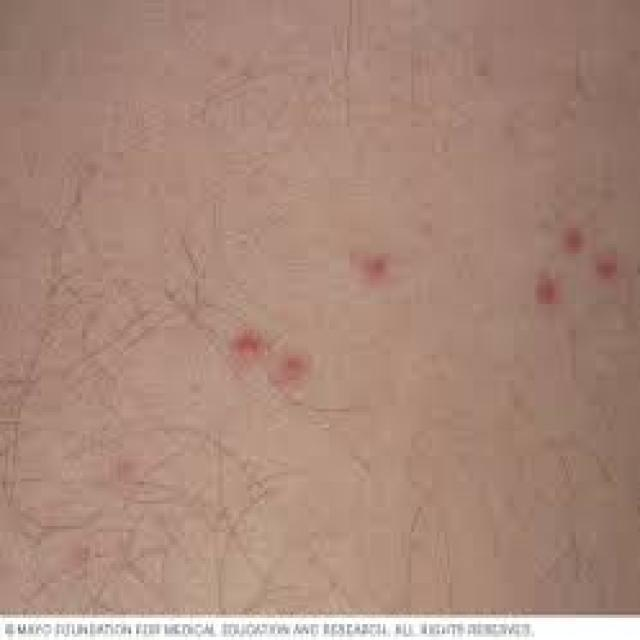kan emici bocekler: (266, 355, 320, 400), (353, 251, 403, 289), (230, 329, 264, 372), (116, 453, 156, 488), (532, 273, 564, 305), (66, 539, 88, 580), (590, 250, 620, 278), (562, 226, 587, 255)
